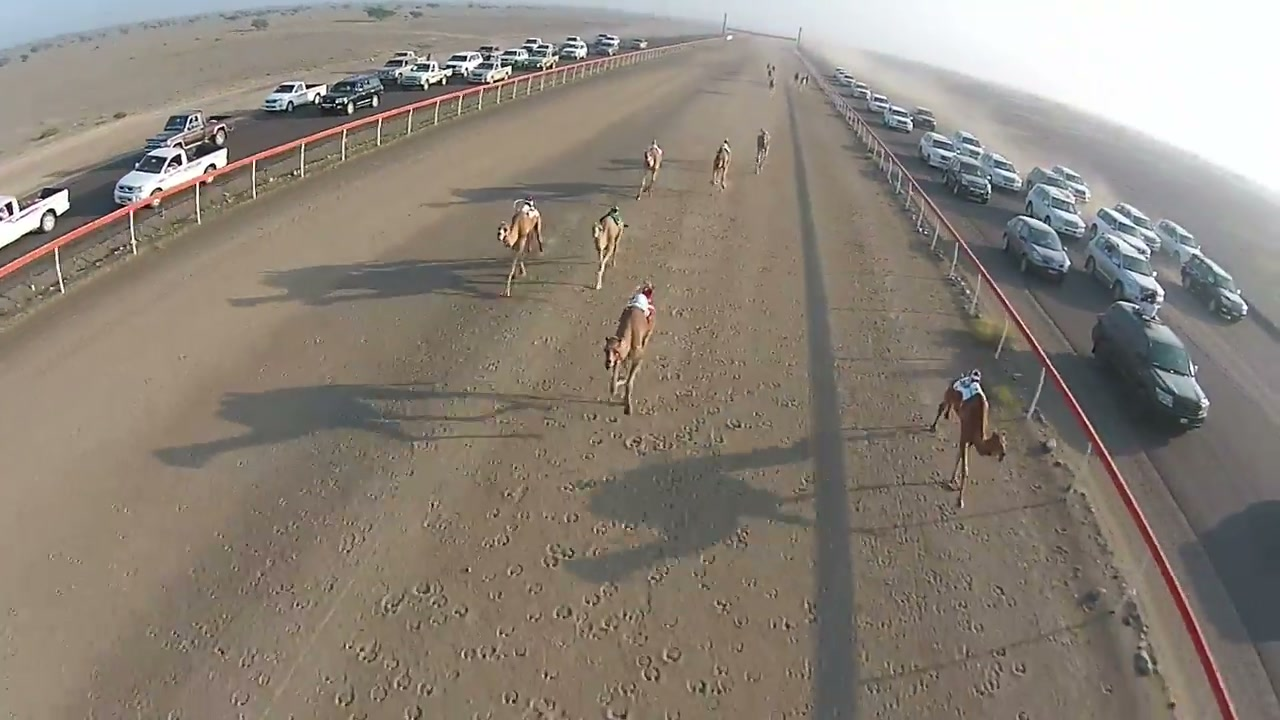animal_foot_print: (351, 387, 819, 698)
